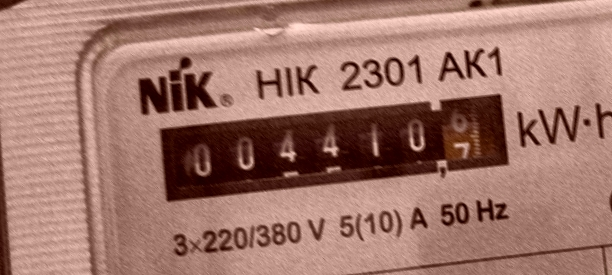0: (188, 141, 213, 181), (403, 118, 427, 155), (233, 134, 255, 174)
1: (364, 122, 382, 161)
4: (273, 126, 299, 166), (316, 123, 342, 163)
6: (449, 108, 469, 136)
7: (450, 141, 471, 162)
screen: (145, 79, 522, 218)
